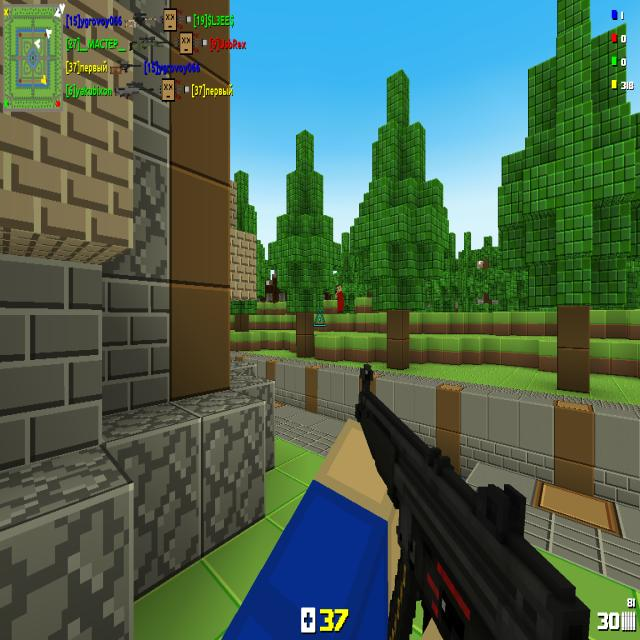enemy: (334, 284, 344, 314)
